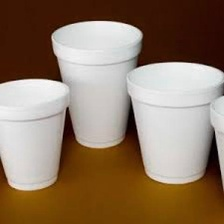paper_cup: (121, 56, 224, 188), (48, 16, 146, 151), (0, 72, 73, 194), (205, 92, 223, 200)
